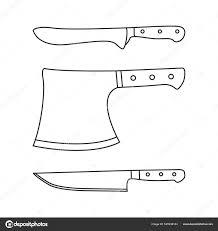Knife: (32, 25, 185, 49), (32, 168, 185, 192)
